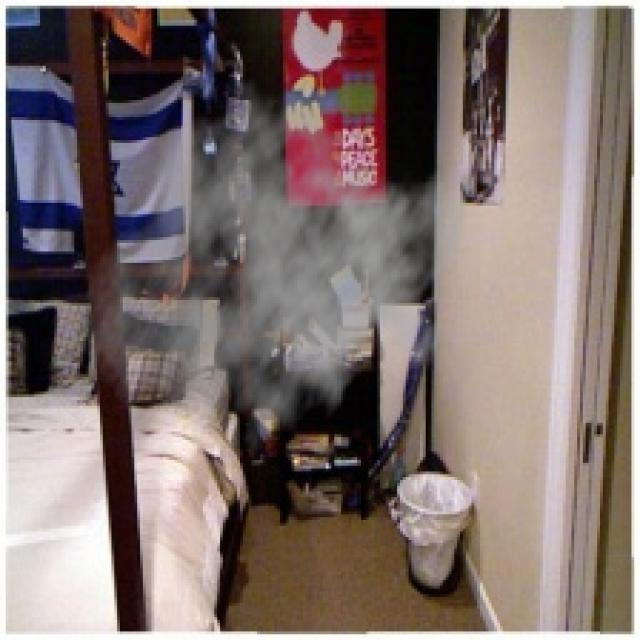smoke: (80, 74, 471, 474)
